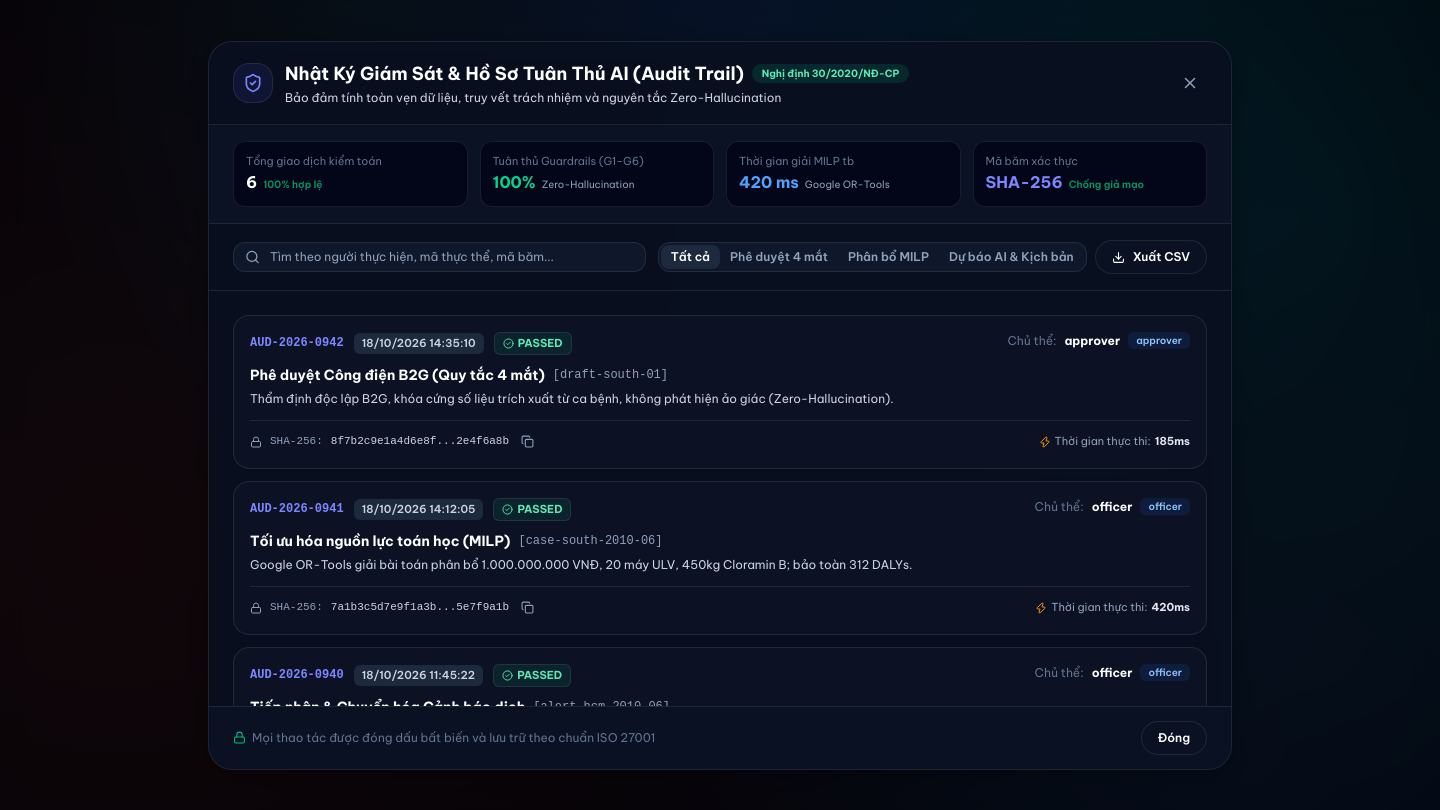
AuditGovernanceModal › filters audit records by category tab
Click the button "Phân bổ MILP". click: [888, 257]
box: [838,245,939,269]
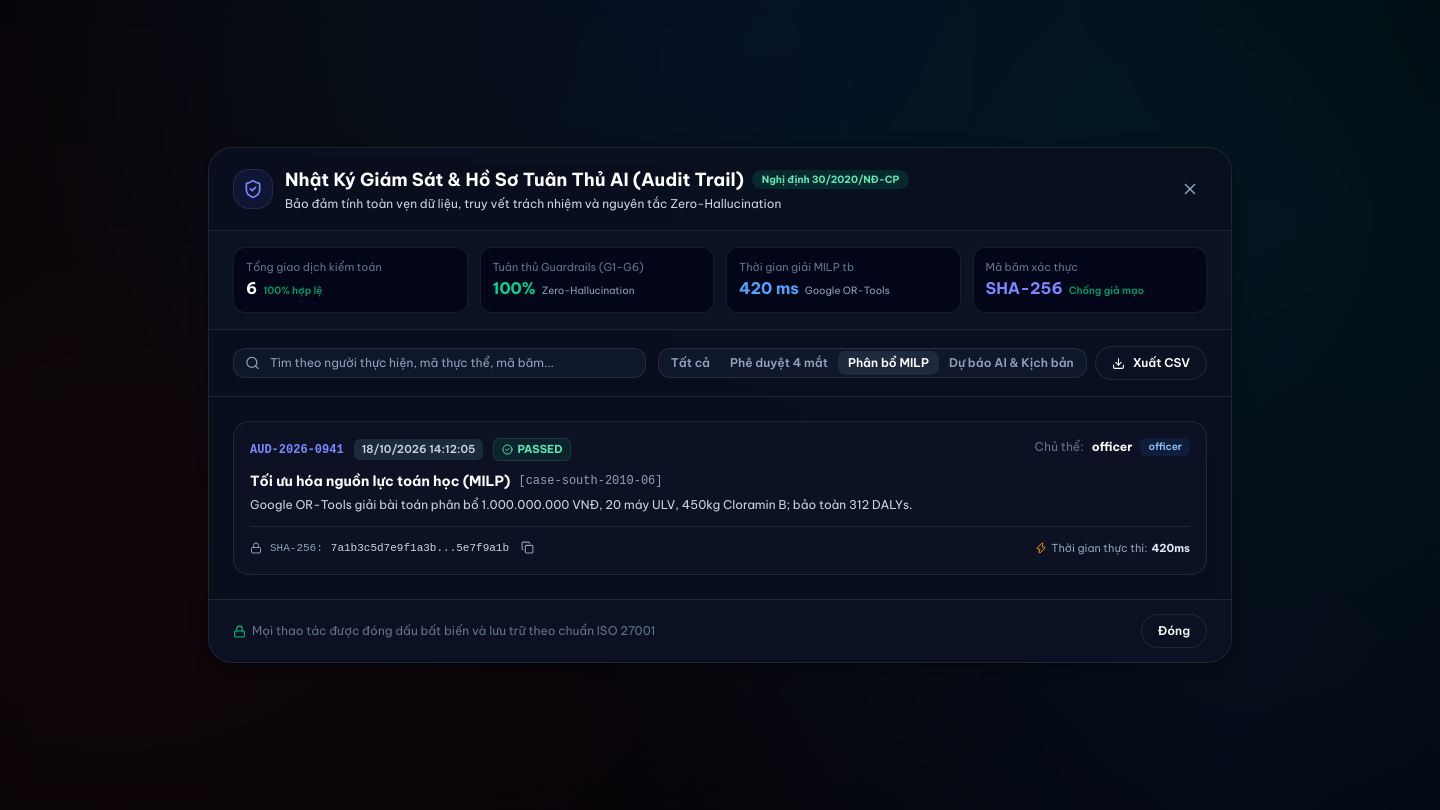
Expected: the heading "Tối ưu hóa nguồn lực toán học (MILP)" is shown, [250,472,510,490]
Result: the heading "Phê duyệt Công điện B2G (Quy tắc 4 mắt)" is gone
